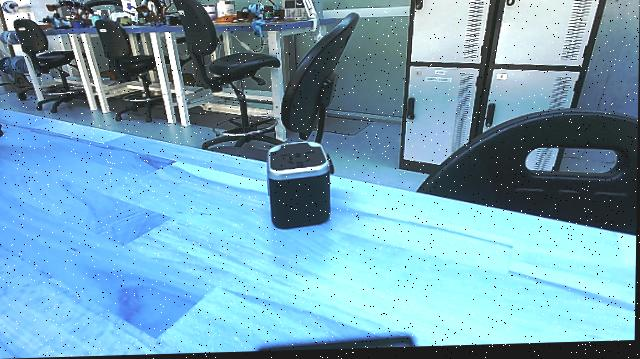adapter: (262, 140, 339, 234)
